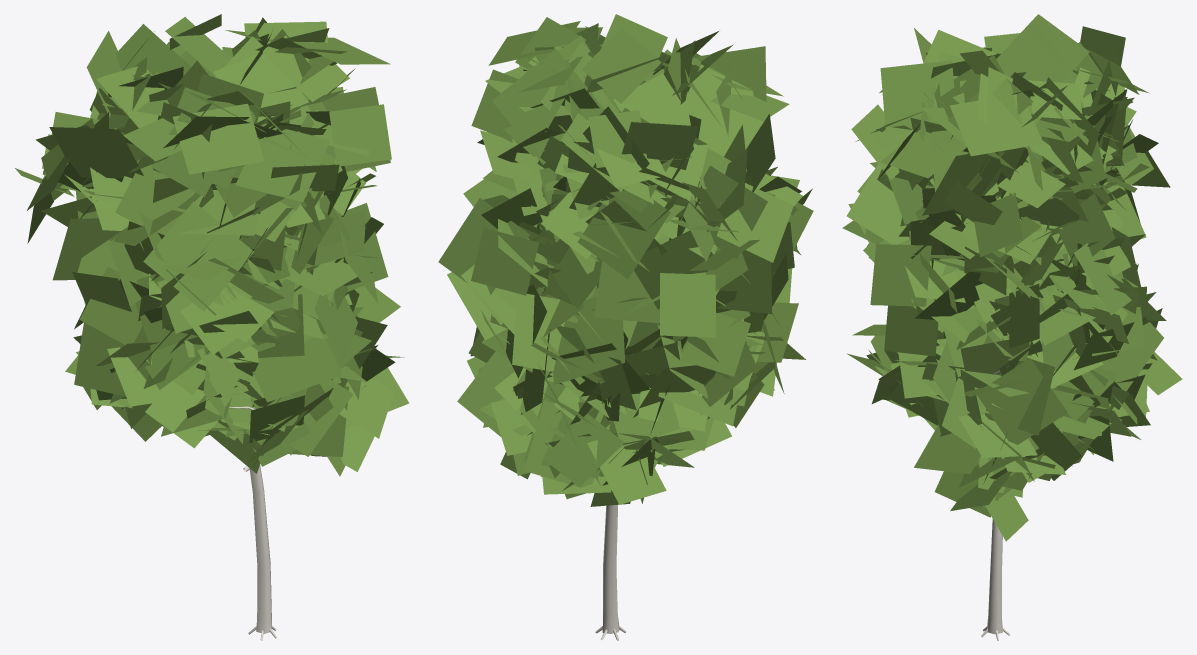
File: birch-5-lod1.glb
3 views of the same model, side by side, from view 1: azimuth 30°, elevation 25°; view 2: azimuth 150°, elevation 25°; view 3: azimuth 270°, elevation 25° (orthographic). The views are drawn at different scales.
Parts seen in each view (by area): view 1: birch-5-lod1-foliage, birch-5-lod1-bark; view 2: birch-5-lod1-foliage, birch-5-lod1-bark; view 3: birch-5-lod1-foliage, birch-5-lod1-bark.
Boxes of the visible parts, <box> form: birch-5-lod1-foliage: <box>15,14,409,476</box>; birch-5-lod1-bark: <box>229,406,276,640</box>; birch-5-lod1-foliage: <box>438,14,813,506</box>; birch-5-lod1-bark: <box>595,202,720,640</box>; birch-5-lod1-foliage: <box>842,14,1182,541</box>; birch-5-lod1-bark: <box>981,366,1010,640</box>.
Bounding box in the file's own units: 8.5 × 14.99 × 7.78.
